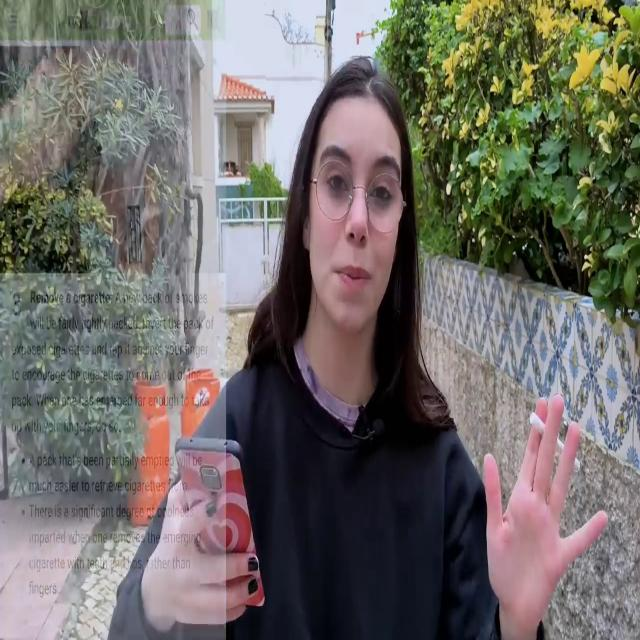Smooking: (520, 394, 587, 489)
